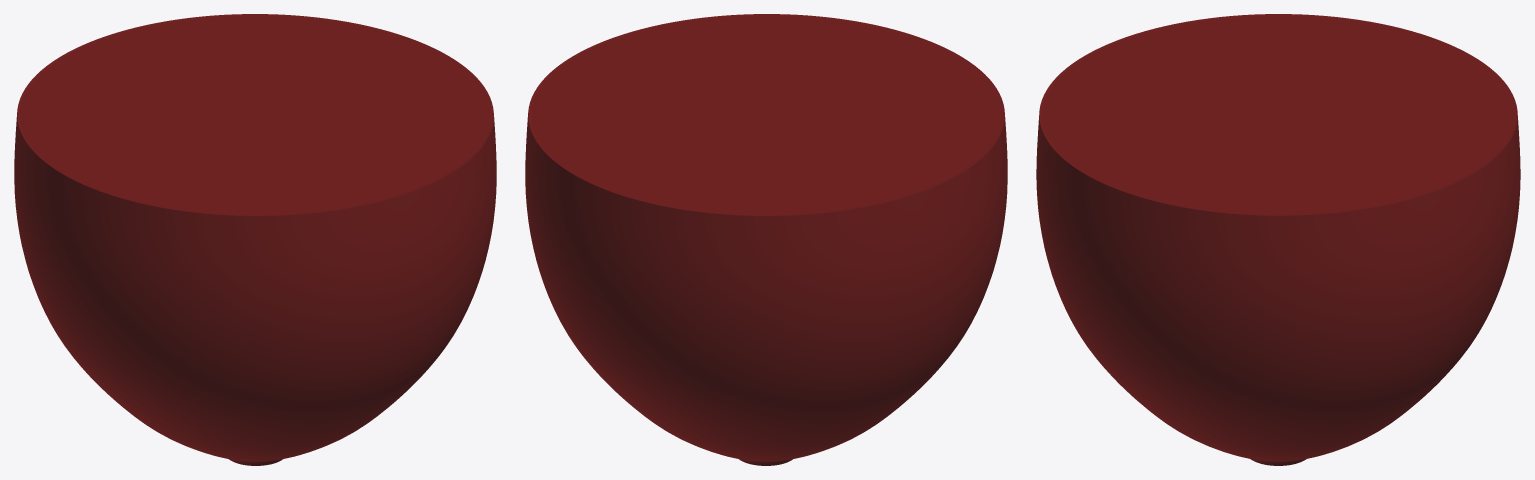
Rendered from drinkware_6abe7c3d35de.glb.
3 renders of one model, left to right at view 1: azimuth 30°, elevation 25°; view 2: azimuth 150°, elevation 25°; view 3: azimuth 270°, elevation 25°, orthographic.
Parts seen in each view (by area): view 1: wine; view 2: wine; view 3: wine.
Part boxes in pixels (x1=…): wine: x1=14, y1=14, x2=496, y2=465; wine: x1=525, y1=14, x2=1007, y2=465; wine: x1=1036, y1=14, x2=1520, y2=465.
Size of what is drawn, in the model's own units: 0.4103 by 0.318 by 0.4117.
